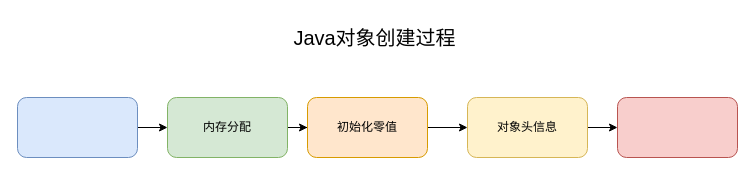
This 755x175 diagram has some shape labels left out. The box of each missing label's shape, as (x1, y1, x2, y2) in pixels:
执行init方法: (616, 96, 738, 158)
类加载检查: (16, 96, 138, 158)
